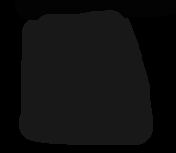fp: (9, 6, 159, 144)
